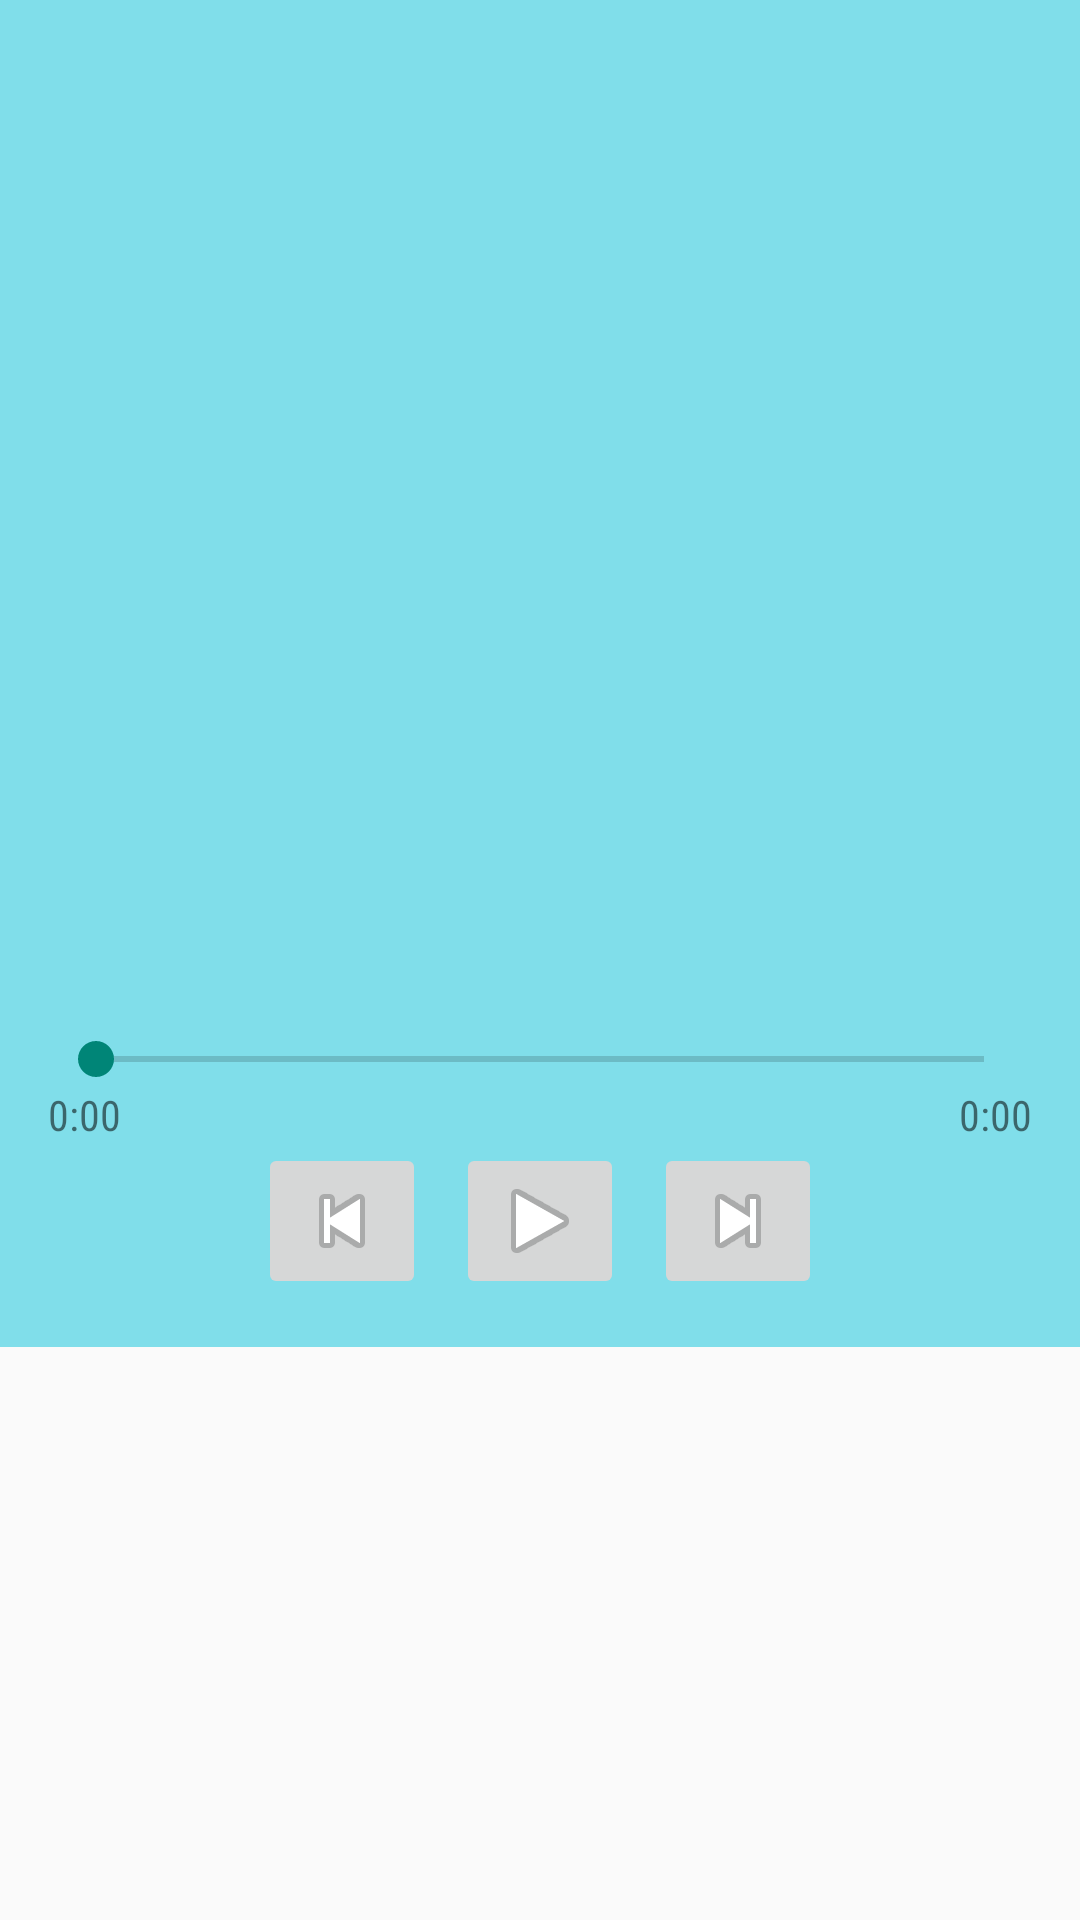

Point at icon controls on the screen. Image size 1080x1920, points as point (x, y).
next: point (738, 1221)
play: point (540, 1221)
previous: point (342, 1221)
